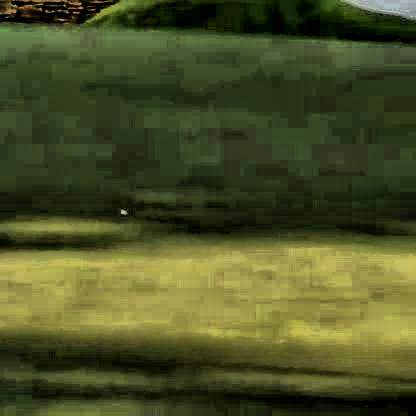golfball: (115, 205, 125, 215)
